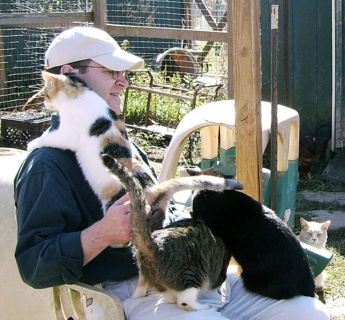Cat: (21, 69, 242, 300), (102, 154, 236, 303), (187, 166, 320, 302), (274, 206, 330, 285)
